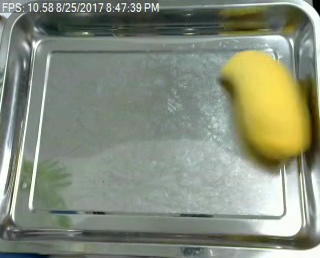Mango: (217, 49, 316, 159)
